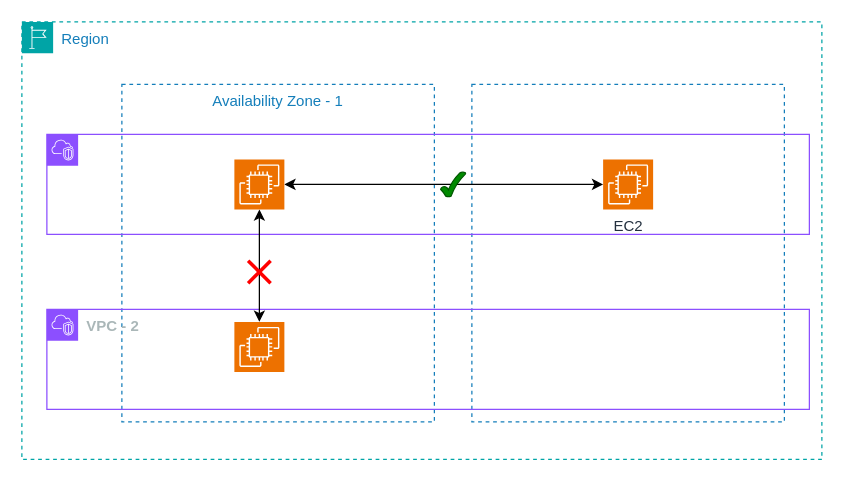
This 844x481 diagram has some shape labels left out. The box of each missing label's shape, as (x1, y1, x2, y2) in pixels:
Availability Zone - 2: (471, 83, 784, 422)
VPC - 1: (46, 133, 809, 234)
